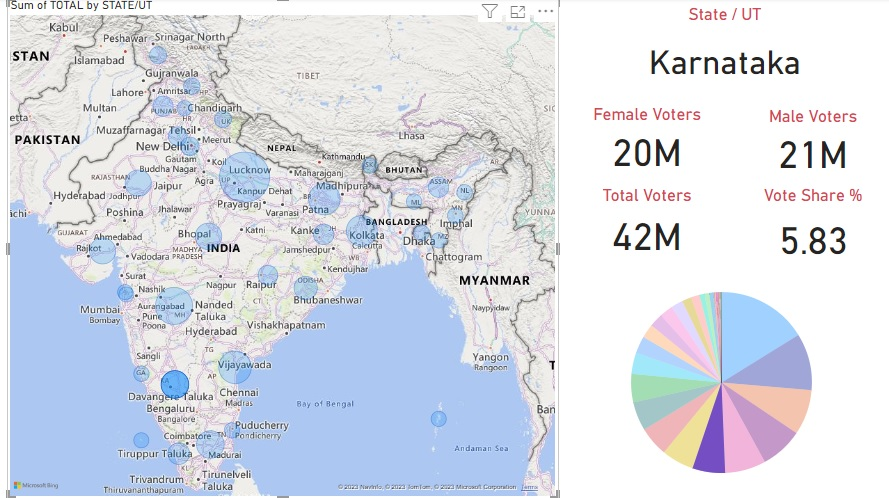

What the dashboard file says about the page in this screenshot:
{"tool":"powerbi","page":{"name":"Page 1","canvas":[1280,720],"ordinal":0},"visuals":[{"type":"map","fields":{"Category":["Append1.STATE/UT"],"Size":["Sum(Append1.TOTAL)"]},"box":[10.1,0,793.3,720],"z":0},{"type":"card","title":"State / UT","fields":{"Values":["Min(Append1.STATE/UT)"]},"box":[802.9,10.1,477.1,126.5],"z":1000},{"type":"card","title":"Female Voters","fields":{"Values":["Append1.female voters"]},"box":[817.7,153.8,224.2,94.9],"z":2000},{"type":"card","title":"Male Voters","fields":{"Values":["Append1.male voters"]},"box":[1055.8,156.6,224.2,94.9],"z":3000},{"type":"card","title":"Total Voters","fields":{"Values":["Sum(Append1.TOTAL)"]},"box":[817.7,270.2,224.2,104.9],"z":4000},{"type":"card","title":"Vote Share %","fields":{"Values":["Append1.Measure"]},"box":[1055.8,270.2,224.2,115],"z":5000},{"type":"pieChart","fields":{"Category":["Append1.STATE/UT"],"Y":["Sum(Append1.TOTAL)"]},"box":[803.4,385.1,467.1,334.9],"z":5001}]}

Visuals, with their boxes in screenshot pixels (x1, y1, x2, y2), scaled from the page's 1280x720 canvas onto the 889x498 screenshot:
map - Append1.STATE/UT x Sum(Append1.TOTAL): {"left": 7, "top": 0, "right": 558, "bottom": 497}
"State / UT" card: {"left": 558, "top": 7, "right": 888, "bottom": 94}
"Female Voters" card: {"left": 568, "top": 106, "right": 724, "bottom": 172}
"Male Voters" card: {"left": 733, "top": 108, "right": 888, "bottom": 174}
"Total Voters" card: {"left": 568, "top": 187, "right": 724, "bottom": 259}
"Vote Share %" card: {"left": 733, "top": 187, "right": 888, "bottom": 266}
pieChart - Append1.STATE/UT x Sum(Append1.TOTAL): {"left": 558, "top": 266, "right": 882, "bottom": 497}
